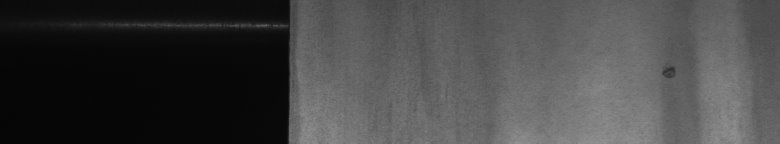fi: (660, 58, 680, 84)
